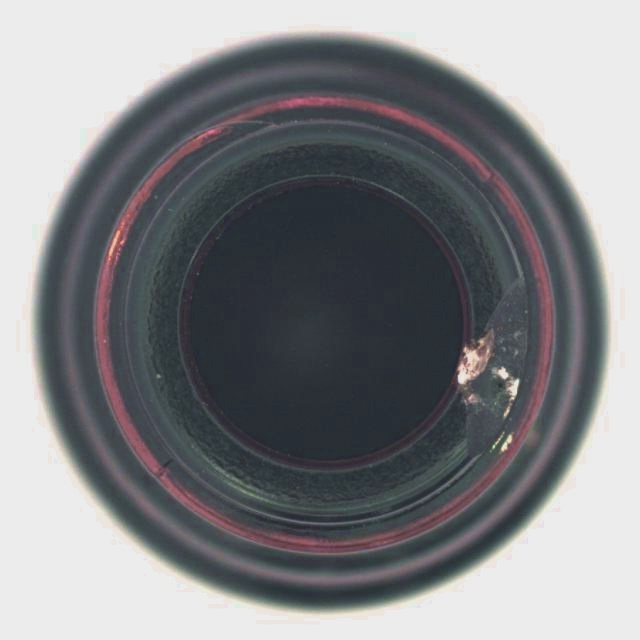bad-broken_small: (30, 31, 611, 615)
